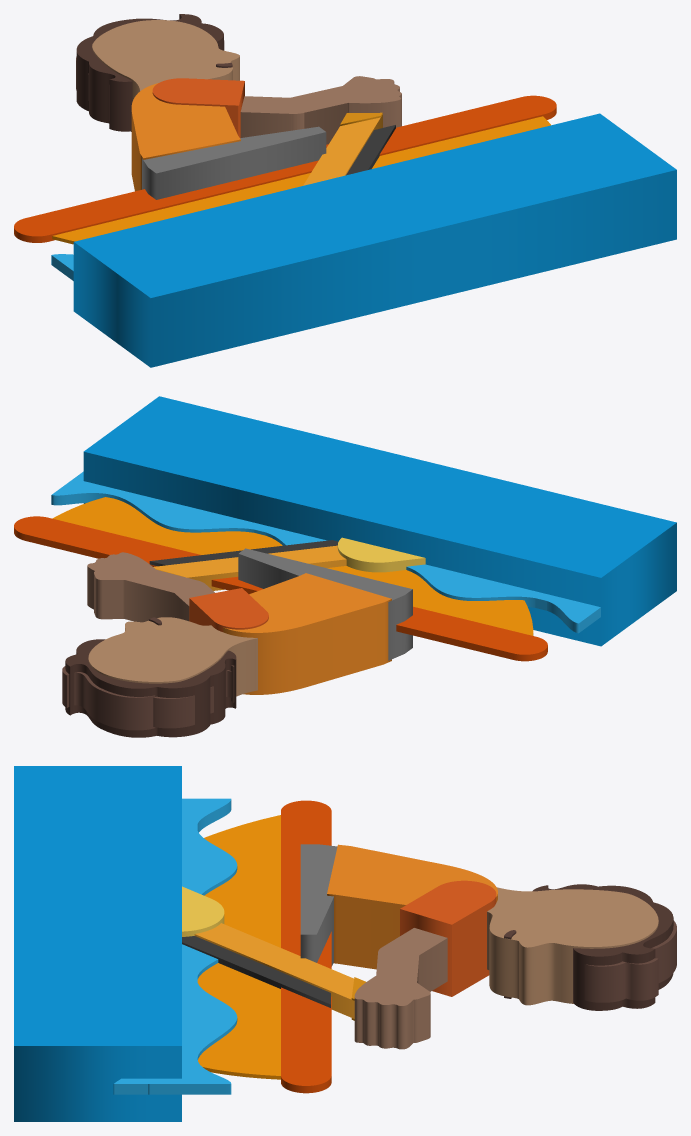
File: emoji_u1f6a3_1f3fd.glb
The picture shows the model from 3 angles, top to bottom: view 1: azimuth 30°, elevation 25°; view 2: azimuth 150°, elevation 25°; view 3: azimuth 270°, elevation 25°; orthographic projection. The views are drawn at different scales.
Visible parts, largest first — view 1: emoji_u1f6a3_1f3fd; view 2: emoji_u1f6a3_1f3fd; view 3: emoji_u1f6a3_1f3fd.
Boxes of the visible parts, box(x1,y1,x2,y2) form: emoji_u1f6a3_1f3fd: box(14, 14, 676, 367); emoji_u1f6a3_1f3fd: box(14, 396, 676, 737); emoji_u1f6a3_1f3fd: box(14, 766, 676, 1121).
Bounding box in the file's own units: 0.0339 × 0.0042 × 0.0332.
